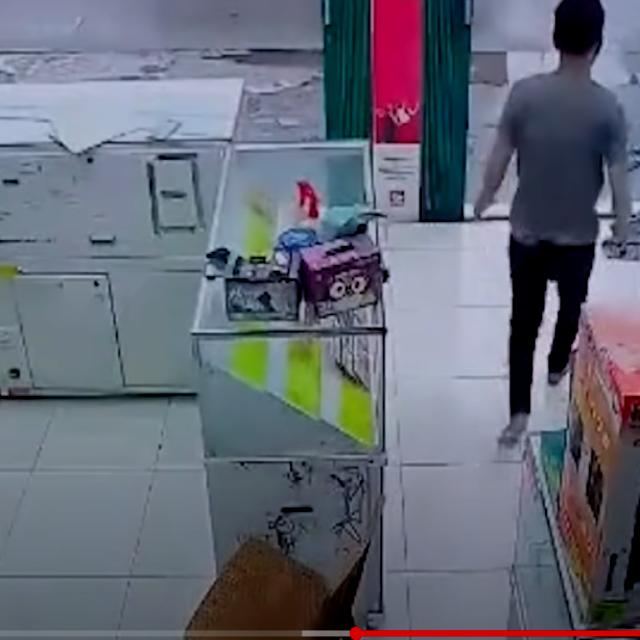person: (474, 0, 630, 450)
